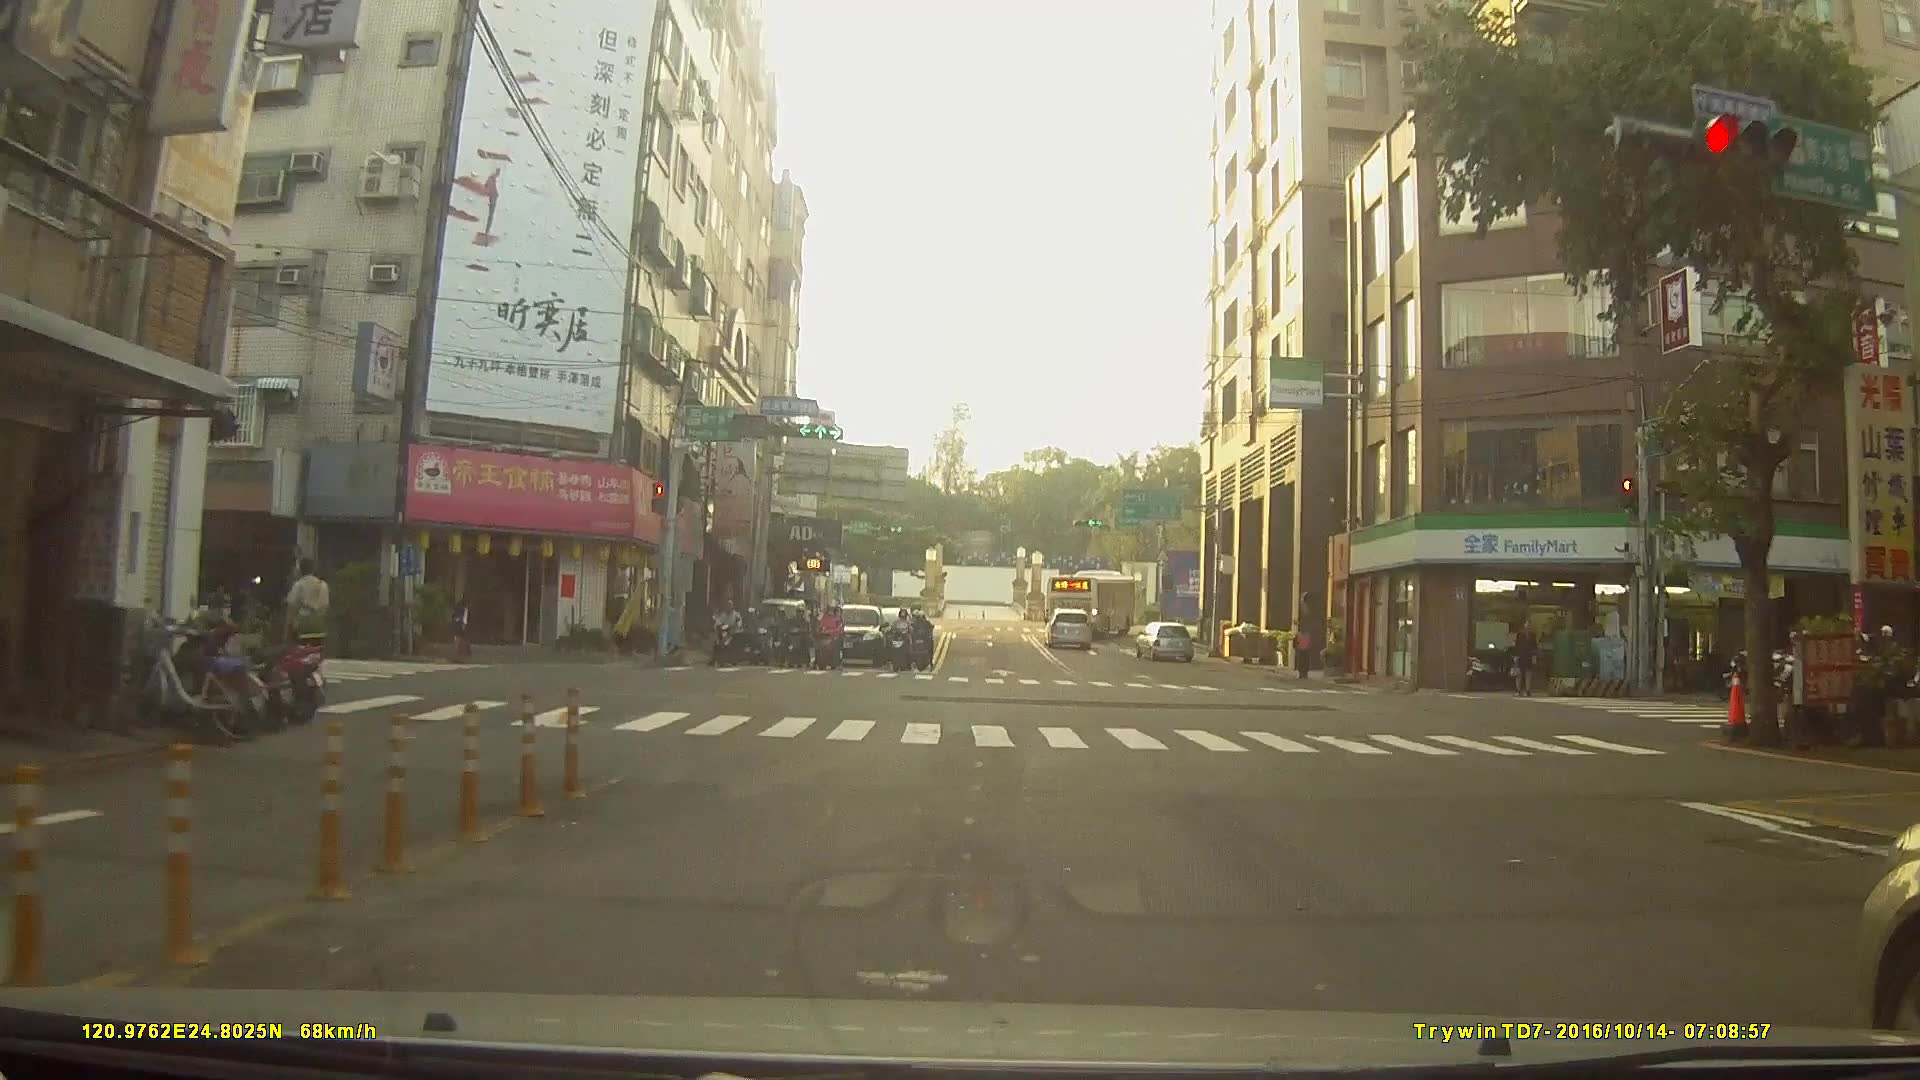pedestrian: (280, 545, 337, 686), (1514, 618, 1540, 696), (453, 598, 480, 660), (1291, 622, 1315, 680)
rider: (711, 598, 746, 666), (815, 603, 848, 673), (782, 606, 813, 666), (750, 595, 779, 654), (913, 604, 939, 668), (890, 607, 914, 674)
vehicle: (1043, 569, 1139, 631), (819, 597, 889, 666), (1132, 620, 1194, 661), (1045, 605, 1096, 648)
